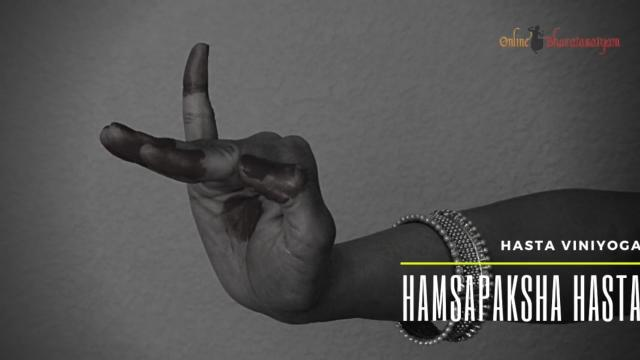Hamsapaksha: (44, 17, 366, 334)
